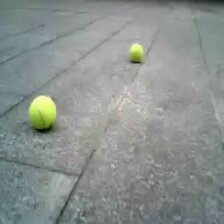tennis: (29, 95, 56, 129), (130, 43, 144, 62)
